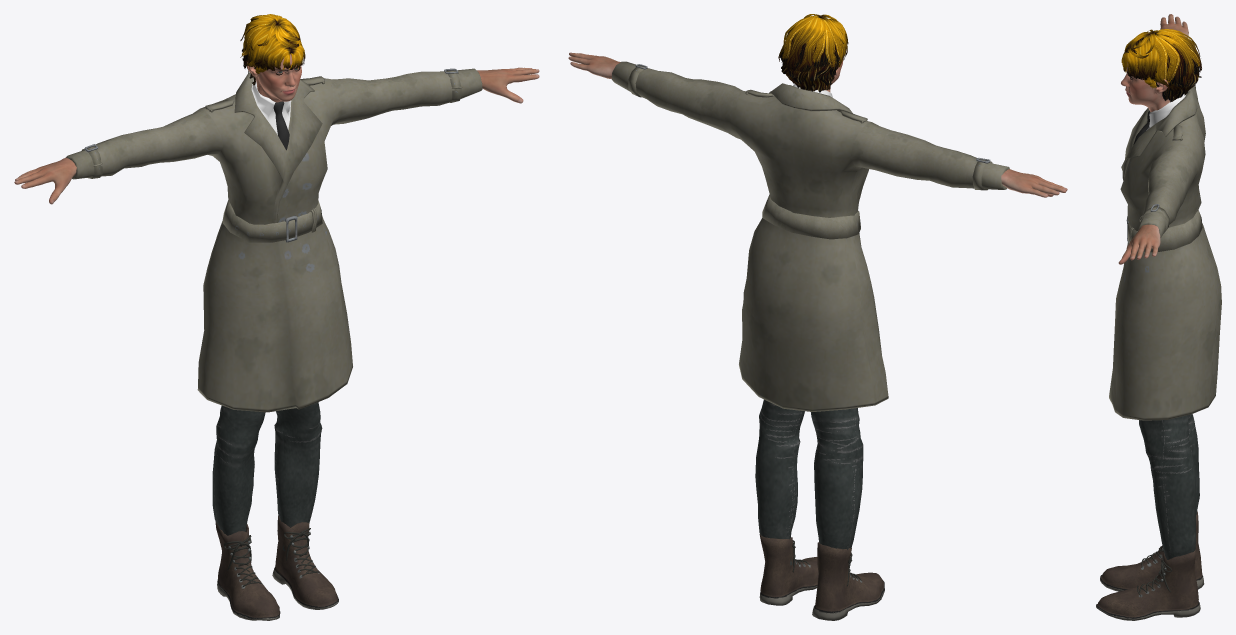
File: GraceCoat-OBJ.obj
3 renders of one model, left to right at view 1: azimuth 30°, elevation 25°; view 2: azimuth 150°, elevation 25°; view 3: azimuth 270°, elevation 25°, orthographic. The views are drawn at different scales.
Parts seen in each view (by area): view 1: Tops, Bottoms, Shoes, Body, Hair; view 2: Tops, Bottoms, Shoes, Hair, Body; view 3: Tops, Bottoms, Shoes, Hair, Body.
Part boxes in pixels (left/top/right/bottom): Tops: left=66, top=68, right=482, bottom=412; Bottoms: left=212, top=402, right=322, bottom=551; Shoes: left=215, top=515, right=338, bottom=620; Body: left=14, top=48, right=539, bottom=204; Hair: left=240, top=14, right=305, bottom=85; Tops: left=611, top=61, right=1009, bottom=411; Bottoms: left=755, top=399, right=863, bottom=565; Shoes: left=759, top=534, right=884, bottom=620; Hair: left=778, top=14, right=848, bottom=92; Body: left=568, top=52, right=1067, bottom=197; Tops: left=1109, top=33, right=1221, bottom=420; Bottoms: left=1139, top=414, right=1199, bottom=559; Shoes: left=1096, top=511, right=1204, bottom=620; Hair: left=1121, top=29, right=1201, bottom=102; Body: left=1118, top=14, right=1188, bottom=264.
Size of the model in its own units: 176 by 191 by 38.28.
Materials: 5 (5 with a texture image).
